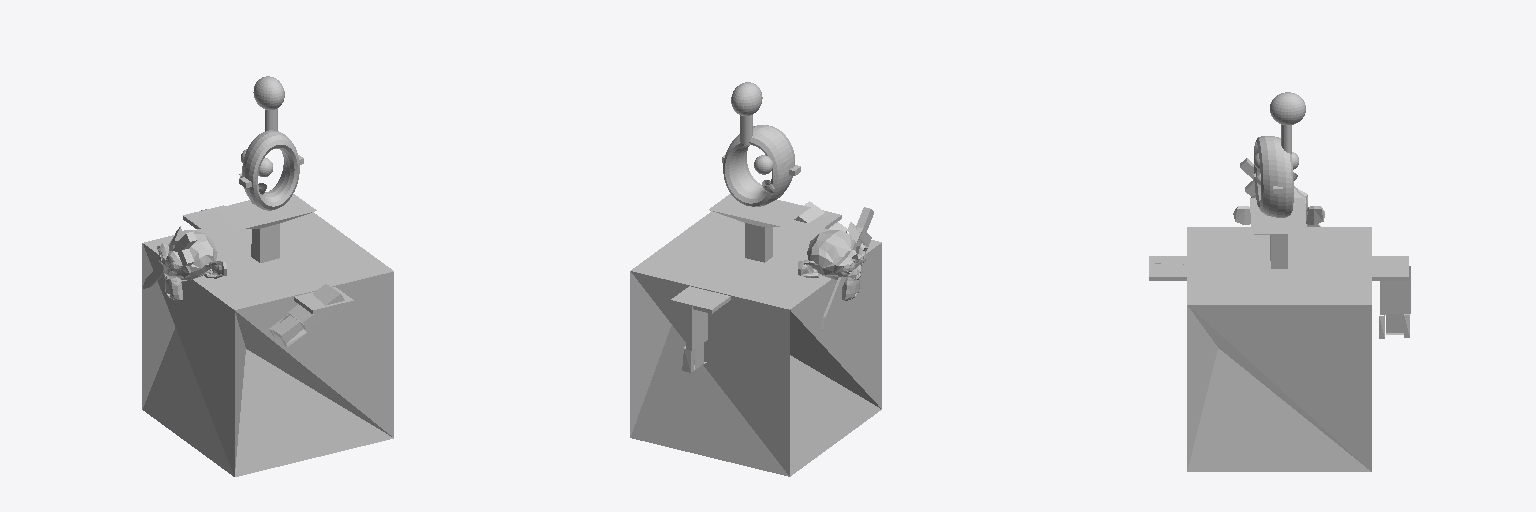
File: Robot_000020.obj
The picture shows the model from 3 angles: view 1: azimuth 30°, elevation 25°; view 2: azimuth 150°, elevation 25°; view 3: azimuth 270°, elevation 25°; orthographic projection.
Parts seen in each view (by area): view 1: Cube.001_Cube, Cube_Cube.001, Suzanne, Left_Hand.001_Cube.005, Cube.002_Cube.004, Cube.003_Cube.006, Sphere; view 2: Cube.001_Cube, Cube_Cube.001, Suzanne, Cube.002_Cube.004, Left_Hand_Cube.002, Cube.003_Cube.006, Sphere; view 3: Cube.001_Cube, Cube_Cube.001, Cube.002_Cube.004, Left_Hand_Cube.002, Sphere, Suzanne.
Part boxes in pixels (left/top/right/bottom): Cube.001_Cube: left=142, top=212, right=393, bottom=476; Cube_Cube.001: left=217, top=130, right=316, bottom=262; Suzanne: left=157, top=230, right=226, bottom=301; Left_Hand.001_Cube.005: left=269, top=284, right=344, bottom=346; Cube.002_Cube.004: left=183, top=205, right=353, bottom=313; Cube.003_Cube.006: left=143, top=226, right=196, bottom=288; Sphere: left=253, top=76, right=284, bottom=109; Cube.001_Cube: left=630, top=211, right=881, bottom=476; Cube_Cube.001: left=709, top=125, right=810, bottom=262; Suzanne: left=798, top=230, right=867, bottom=300; Cube.002_Cube.004: left=671, top=205, right=841, bottom=313; Left_Hand_Cube.002: left=682, top=305, right=707, bottom=372; Cube.003_Cube.006: left=820, top=207, right=873, bottom=330; Sphere: left=731, top=82, right=762, bottom=115; Cube.001_Cube: left=1187, top=227, right=1371, bottom=471; Cube_Cube.001: left=1250, top=136, right=1306, bottom=268; Cube.002_Cube.004: left=1149, top=256, right=1408, bottom=280; Left_Hand_Cube.002: left=1379, top=266, right=1410, bottom=338; Sphere: left=1270, top=92, right=1305, bottom=124; Suzanne: left=1233, top=186, right=1324, bottom=224.
Bounding box in the file's own units: 2.3 × 4.09 × 2.83.